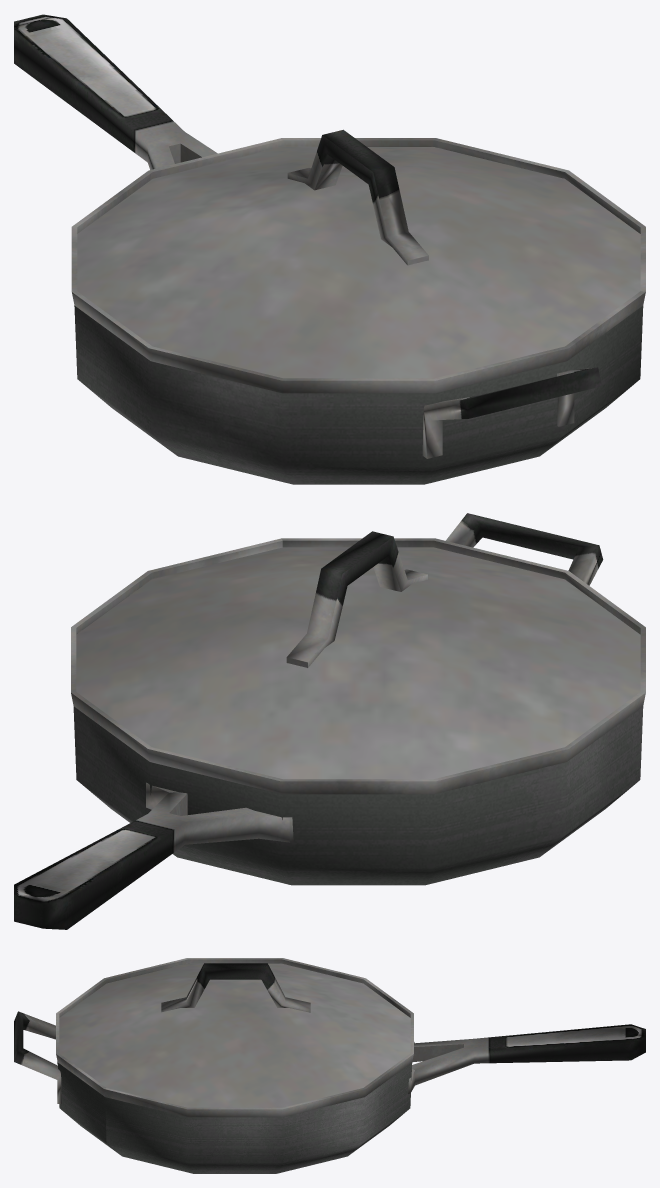
File: Prop_Pot02.glb
3 renders of one model, top to bottom at view 1: azimuth 30°, elevation 25°; view 2: azimuth 150°, elevation 25°; view 3: azimuth 270°, elevation 25°, orthographic. The views are drawn at different scales.
Visible parts, largest first — view 1: xiutz_pot_02; view 2: xiutz_pot_02; view 3: xiutz_pot_02.
Boxes of the visible parts, x1,y1,x2,y2 form: xiutz_pot_02: (14, 14, 645, 484); xiutz_pot_02: (14, 513, 645, 929); xiutz_pot_02: (14, 958, 645, 1173).
Size of the model in its own units: 0.4468 by 0.1961 by 0.789.
Materials: 1 (1 with a texture image).
